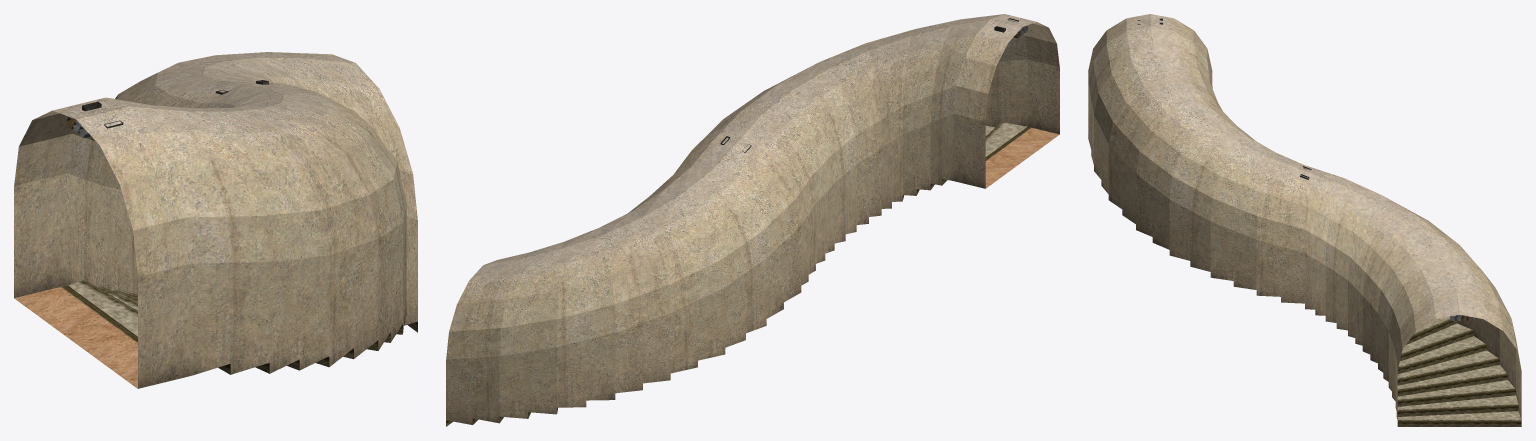
The model's file is thm_tato_jabbas_palace_r6_stairs2_mesh_r6.fbx.
3 renders of one model, left to right at view 1: azimuth 30°, elevation 25°; view 2: azimuth 150°, elevation 25°; view 3: azimuth 270°, elevation 25°, orthographic. The views are drawn at different scales.
Parts seen in each view (by area): view 1: mesh_node; view 2: mesh_node; view 3: mesh_node.
Part boxes in pixels (x1,y1,x2,y2): mesh_node: [14, 52, 417, 388]; mesh_node: [446, 14, 1059, 426]; mesh_node: [1088, 14, 1521, 426].
Bounding box in the file's own units: 11 × 9.6 × 14.
